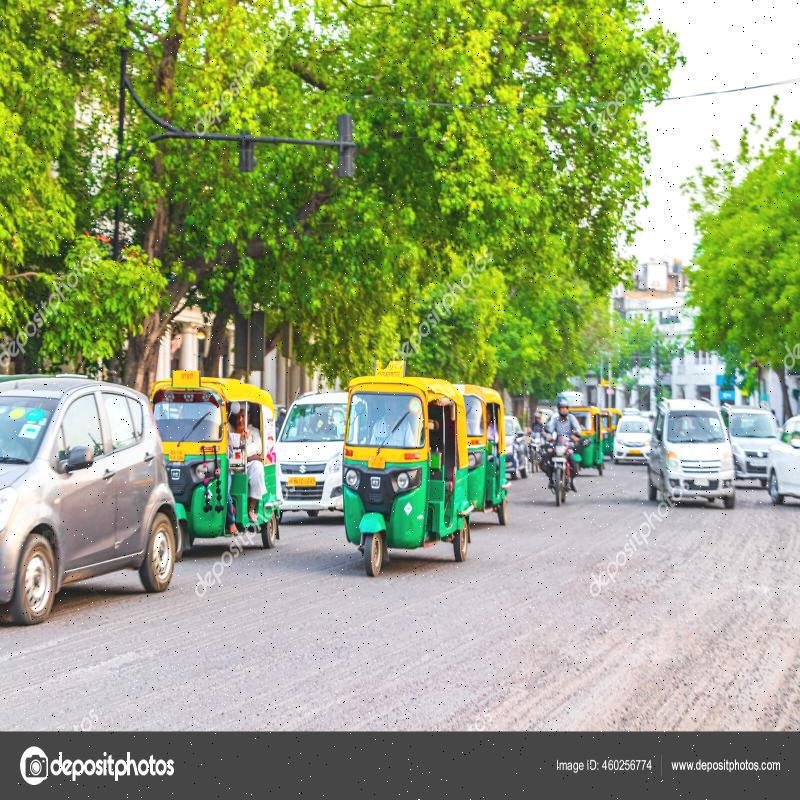auto: (332, 359, 473, 565), (154, 366, 285, 545), (454, 368, 514, 534), (585, 405, 605, 470)
bike: (539, 439, 590, 523), (546, 446, 552, 457)
car: (2, 339, 185, 629), (277, 377, 358, 526), (644, 403, 732, 510), (724, 403, 786, 488)
